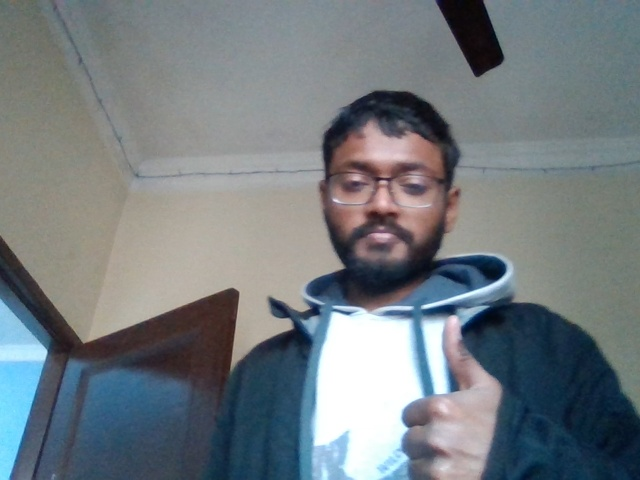good: (390, 315, 519, 472)
